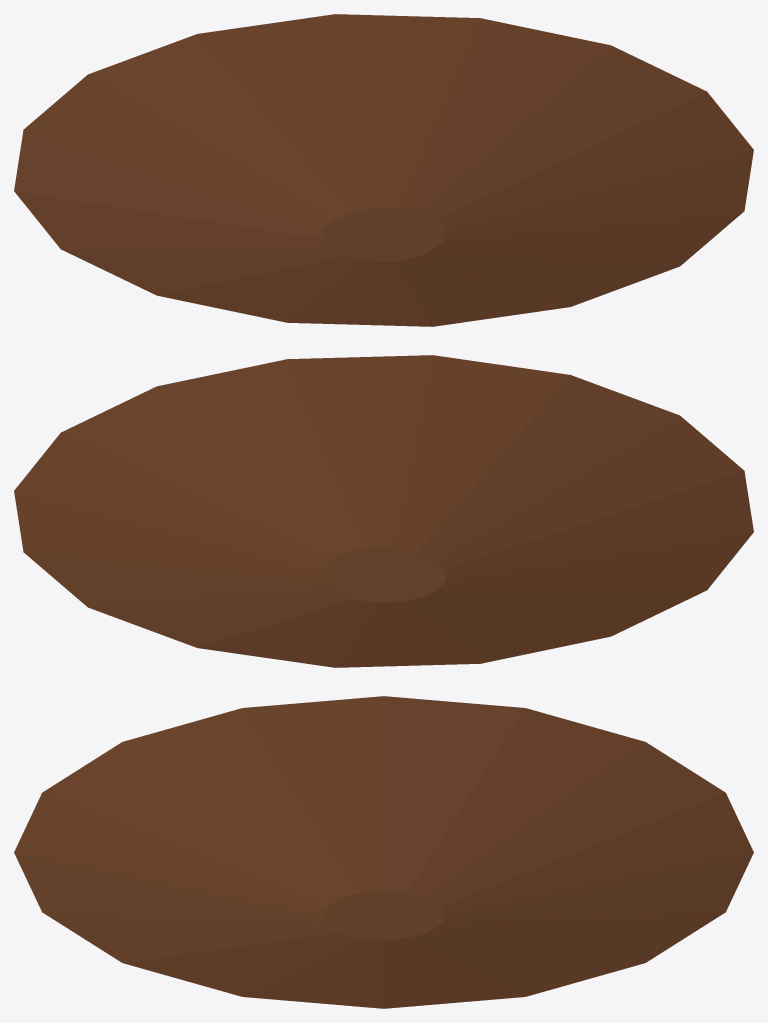
File: tablebowl02.obj
3 views of the same model, one above another, from view 1: azimuth 30°, elevation 25°; view 2: azimuth 150°, elevation 25°; view 3: azimuth 270°, elevation 25° (orthographic).
Visible parts, largest first — view 1: Cylinder.001_Cylinder; view 2: Cylinder.001_Cylinder; view 3: Cylinder.001_Cylinder.
Part boxes in pixels (bbox=[...]): Cylinder.001_Cylinder: bbox=[14, 14, 753, 326]; Cylinder.001_Cylinder: bbox=[14, 355, 753, 667]; Cylinder.001_Cylinder: bbox=[14, 696, 753, 1008].
Bounding box in the file's own units: 0.3526 × 0.04 × 0.3526.
